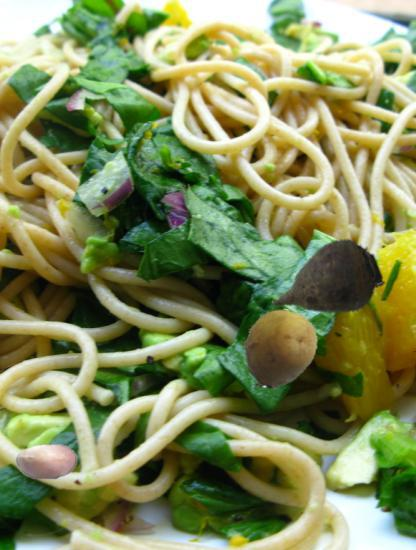Beetroot: (269, 226, 384, 341)
Hazelnut: (15, 429, 80, 494)
Potato: (238, 308, 319, 389)
